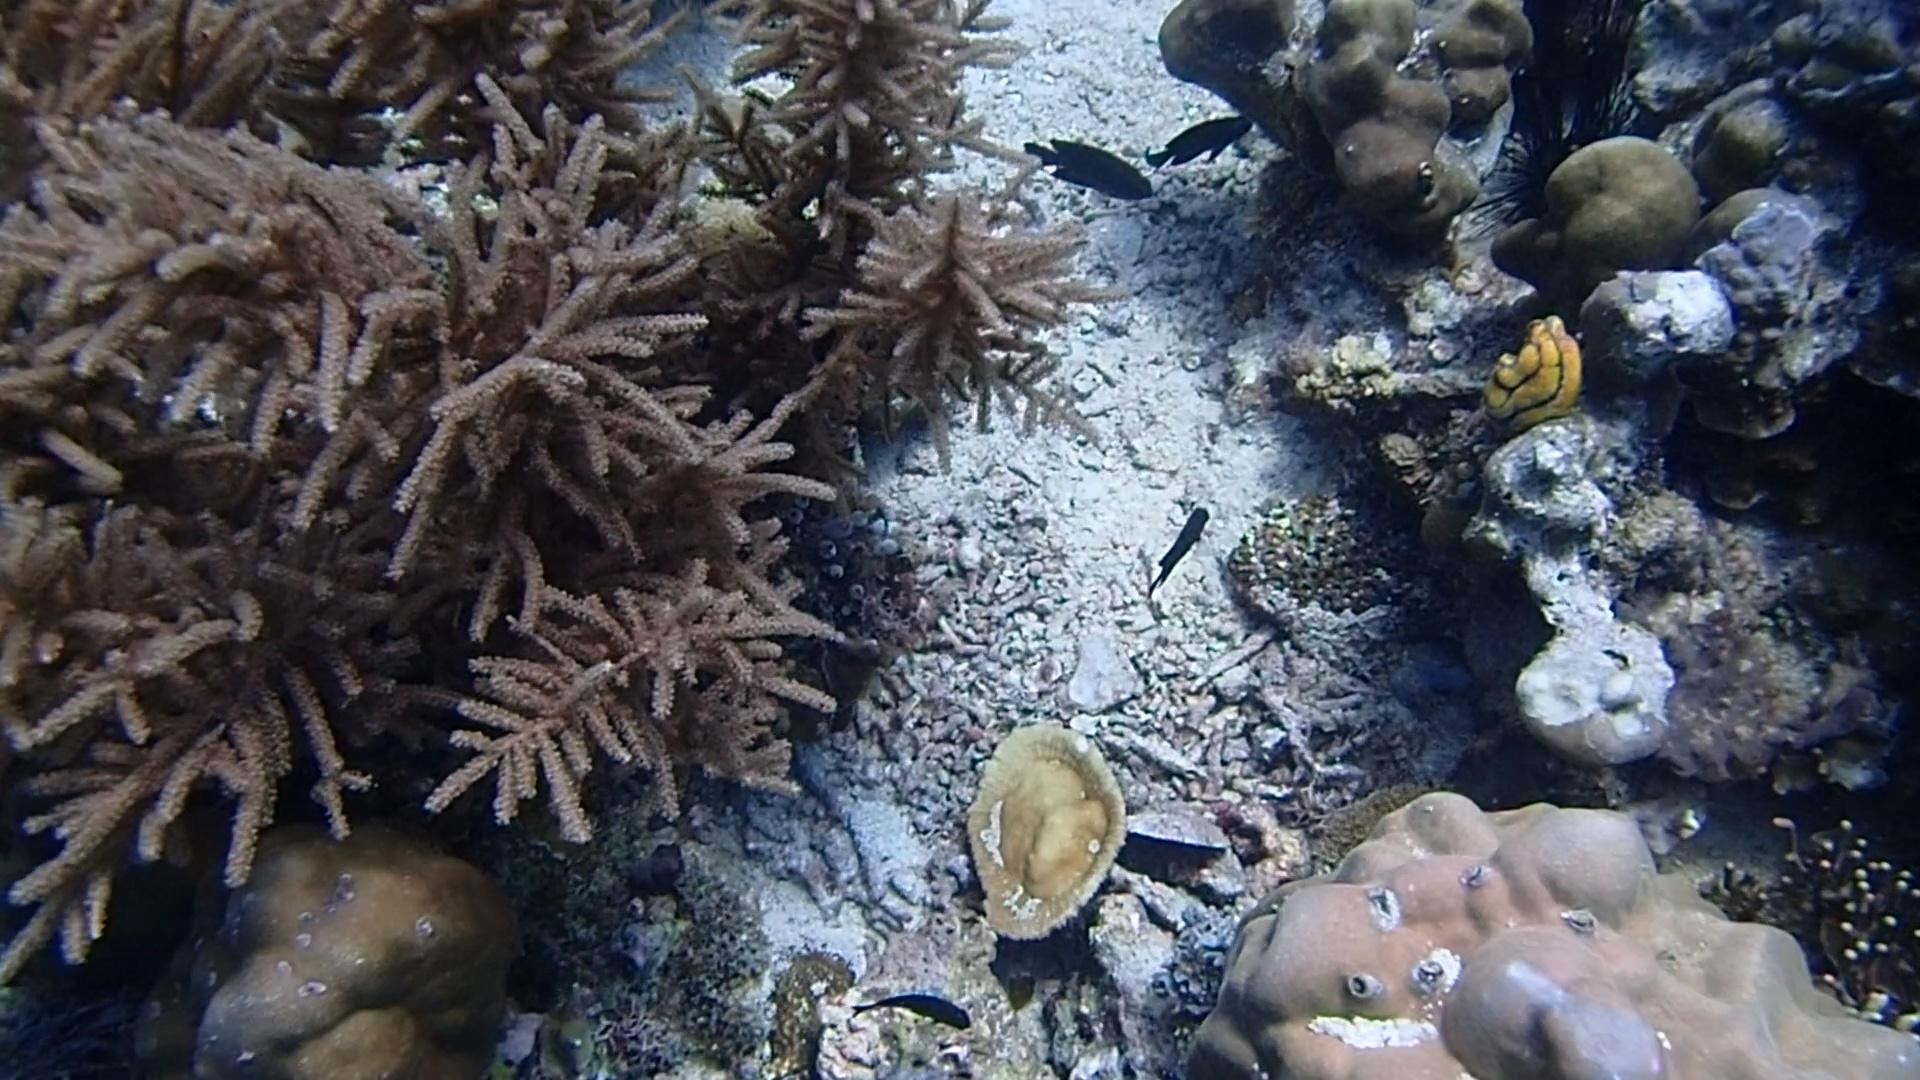Dark Fish: (1011, 109, 1171, 224), (1129, 497, 1230, 600), (844, 975, 984, 1044), (1145, 107, 1261, 178)
